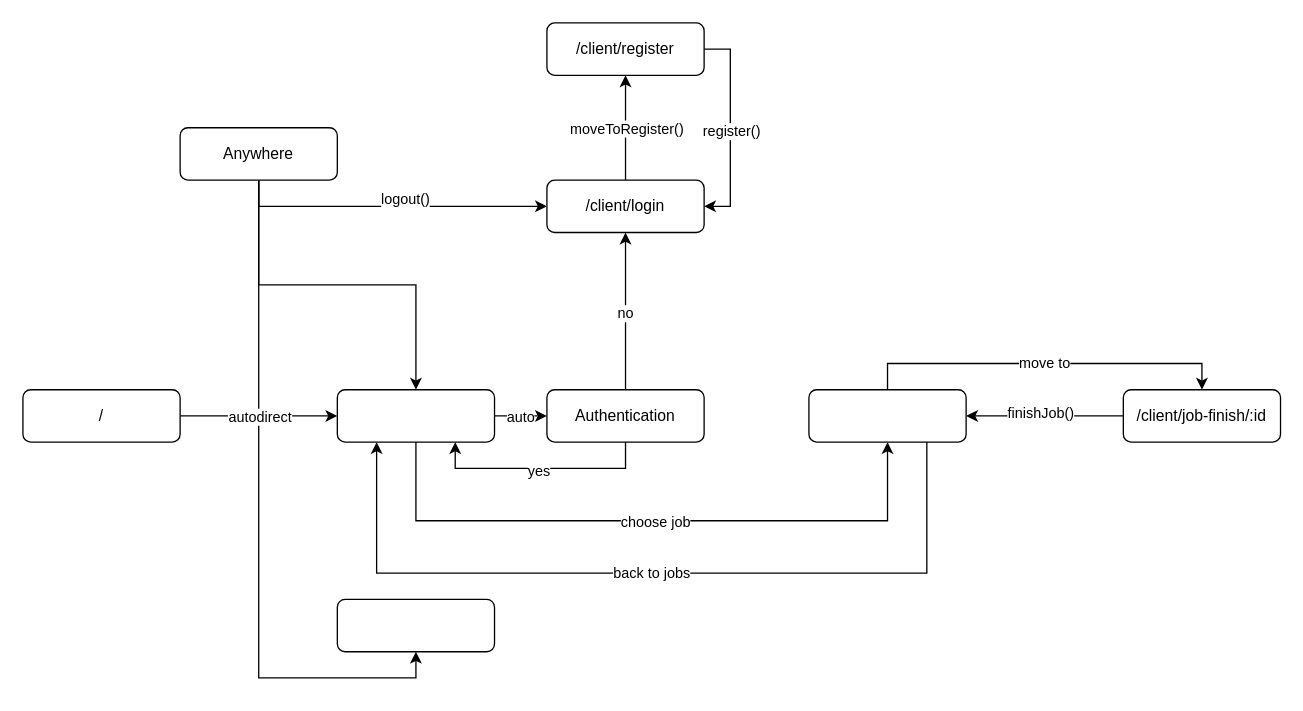
Image size: 1303x711. Some labels were removed from this diagram. The centre of each missing label's shape, as x and y in pixels:
/client/job-details/:id: the point at 887,415
/client/jobs: the point at 415,415
/client/profile: the point at 415,625
